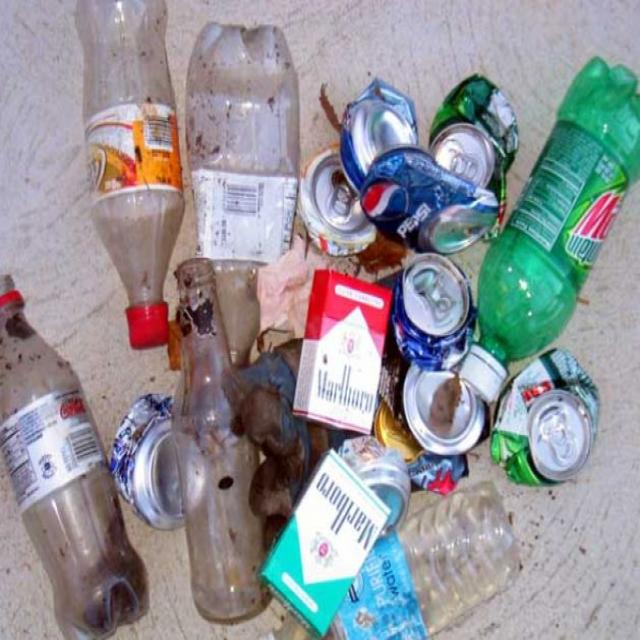dry: (465, 28, 640, 404), (0, 266, 162, 640), (70, 0, 203, 358), (182, 15, 306, 379), (255, 447, 403, 638), (490, 330, 616, 507), (296, 256, 398, 462), (99, 378, 232, 534), (388, 245, 484, 382), (335, 69, 427, 209), (430, 74, 531, 186)
